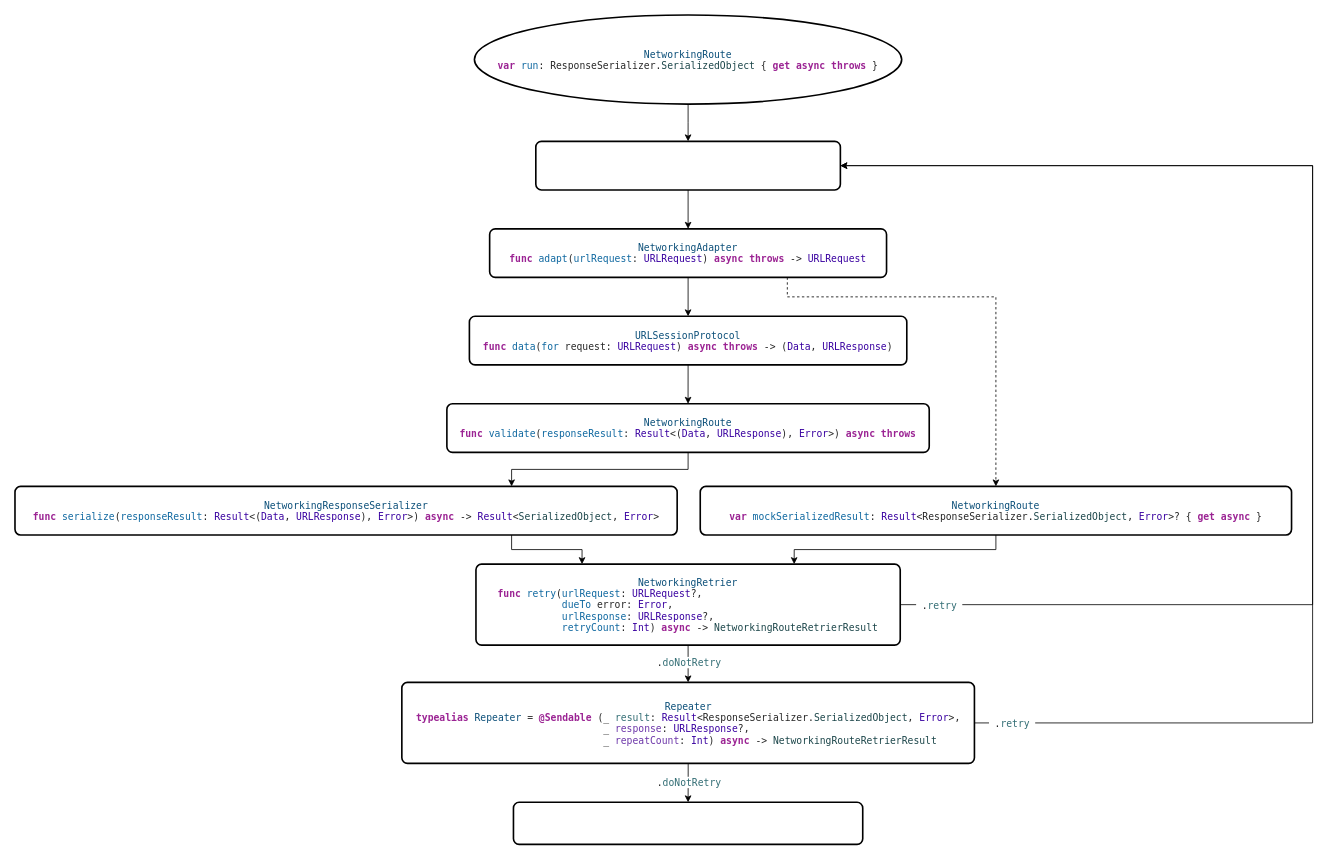
Image size: 1333x859. Some labels were removed from this diagram. The shapes that lost their labels are listed below. From the top down, each one's centre as x and y in pixels, then its label:
At [688,165]: "NetworkingRoute var urlRequest : URLRequest { get async throws }".
At [687,823]: "return Result <ResponseSerializer. SerializedObject , Error >".
